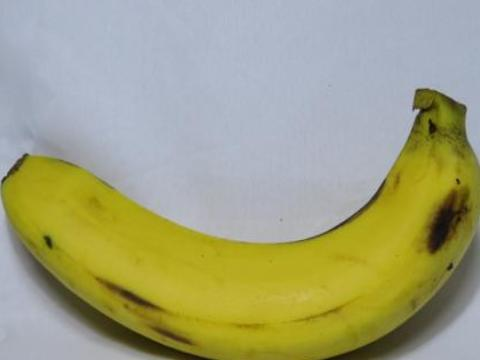freshripe: (0, 67, 479, 359)
